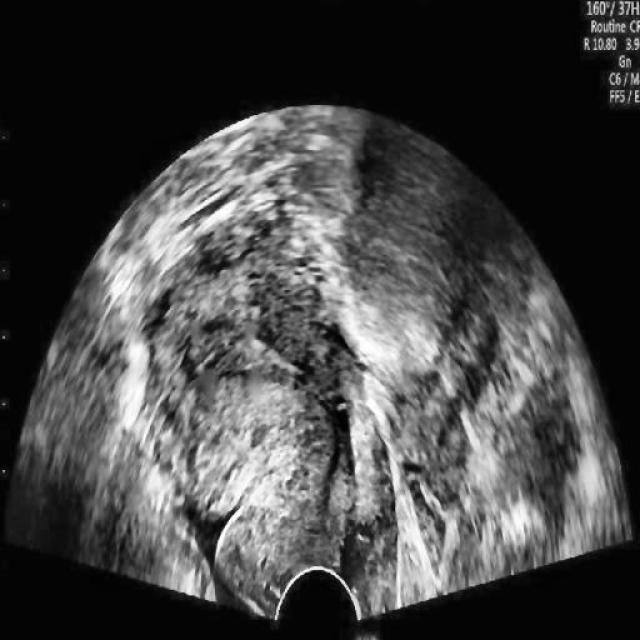viable embryo: (1, 101, 634, 626)
